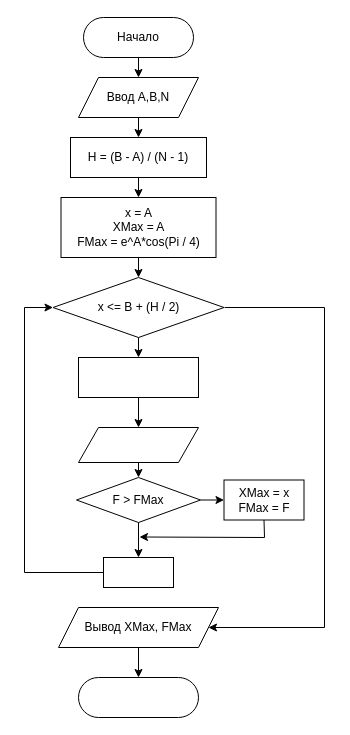
This 350x735 diagram has some shape labels left out. Here are the shapes that lost their labels. From the top down, the centre of each, then its label:
At [138,377]: "F = e^x*cos(Pi / 4)".
At [138,444]: "Вывод x, F".
At [138,572]: "x = x + H".
At [138,697]: "Конец".
